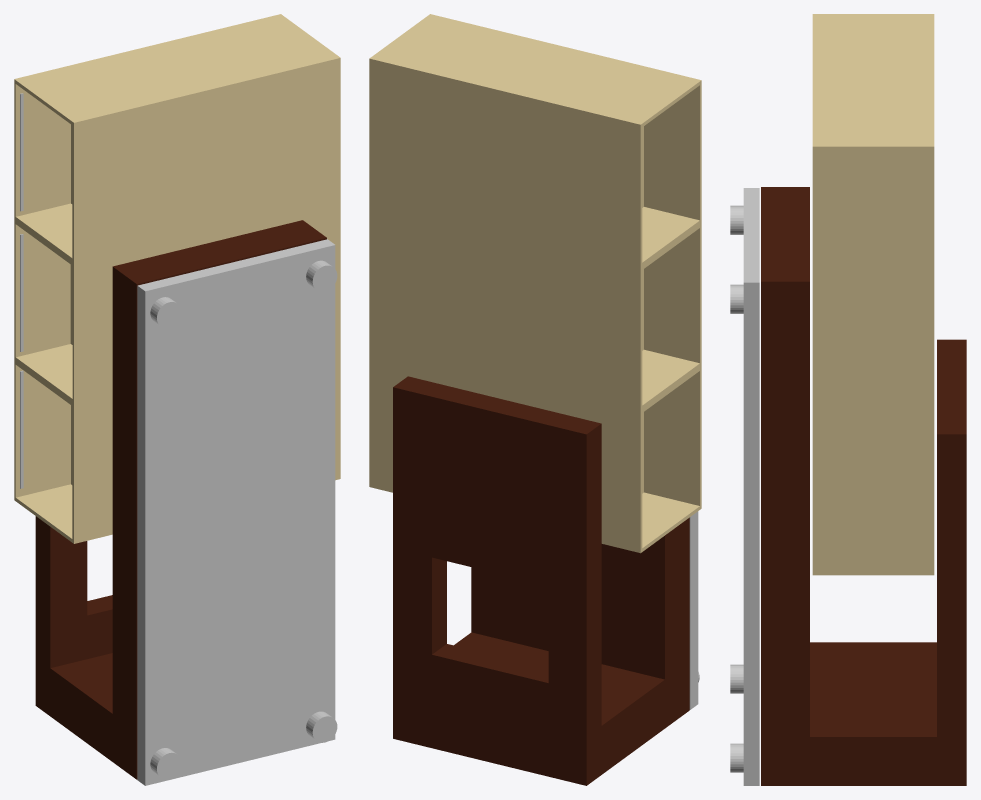
The model's file is coffeeTable.dae.
3 views of the same model, side by side, from view 1: azimuth 30°, elevation 25°; view 2: azimuth 150°, elevation 25°; view 3: azimuth 270°, elevation 25° (orthographic).
Visible parts, largest first — view 1: Cube_001 (×2), Cube_002, Cylinder, Cylinder_003, Cylinder_002, Cylinder_001; view 2: Cube_001 (×2), Cube_002; view 3: Cube_001 (×2), Cube_002.
Boxes of the visible parts, <box> form: Cube_001 (×2): <box>14,14,340,779</box>; Cube_002: <box>137,239,335,785</box>; Cylinder: <box>150,748,181,779</box>; Cylinder_003: <box>150,297,181,328</box>; Cylinder_002: <box>306,260,337,291</box>; Cylinder_001: <box>306,711,337,742</box>; Cube_001 (×2): <box>369,14,701,785</box>; Cube_002: <box>689,511,698,709</box>; Cube_001 (×2): <box>761,14,966,785</box>; Cube_002: <box>743,188,759,785</box>.
Bounding box in the file's own units: 2.8 × 2.12 × 6.5.
